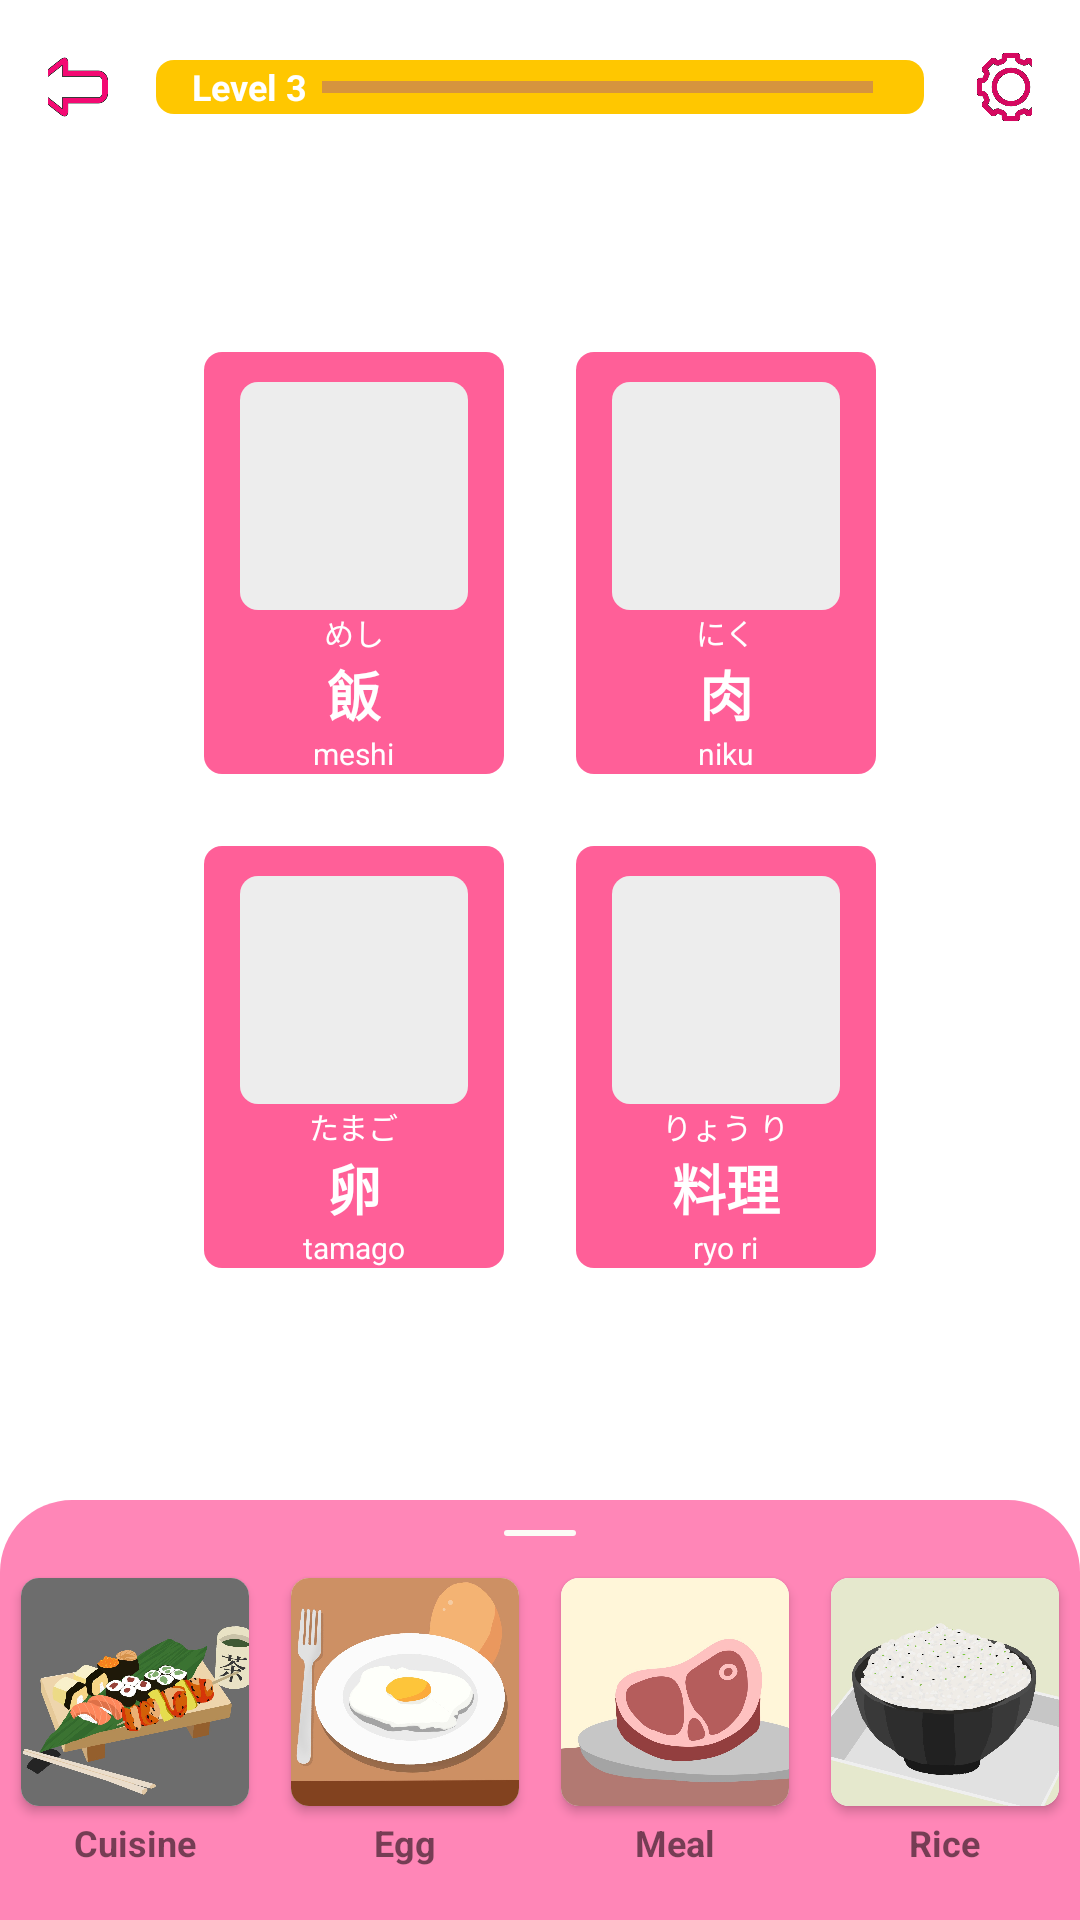

Icon bounding boxes for this 1080x1920 phone screenshot, format BBox(x1, y1, x2, y2):
meat: BBox(561, 1578, 789, 1806)
